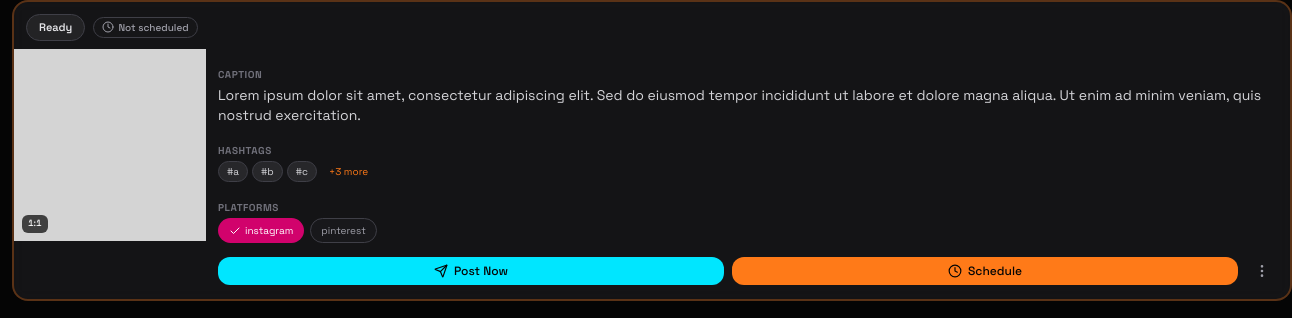
Scenario: V060-001 — PostReadyCard layout & interactions › clicking +N more reveals all hashtags
Click the button "+3 more": (349, 171) [321,162,376,180]
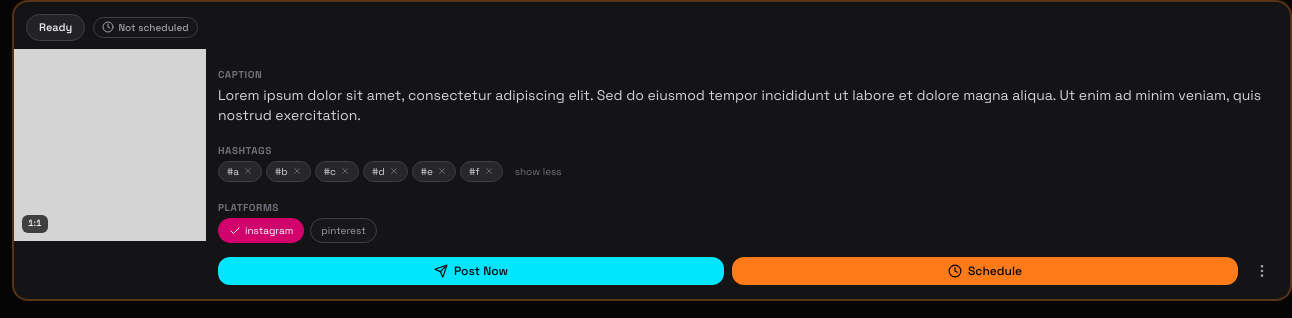
Expected: the text "#d" is shown, [363,160,408,182]
Expected: the text "#e" is shown, [412,160,456,182]
Expected: the text "#f" is shown, [460,160,503,182]
